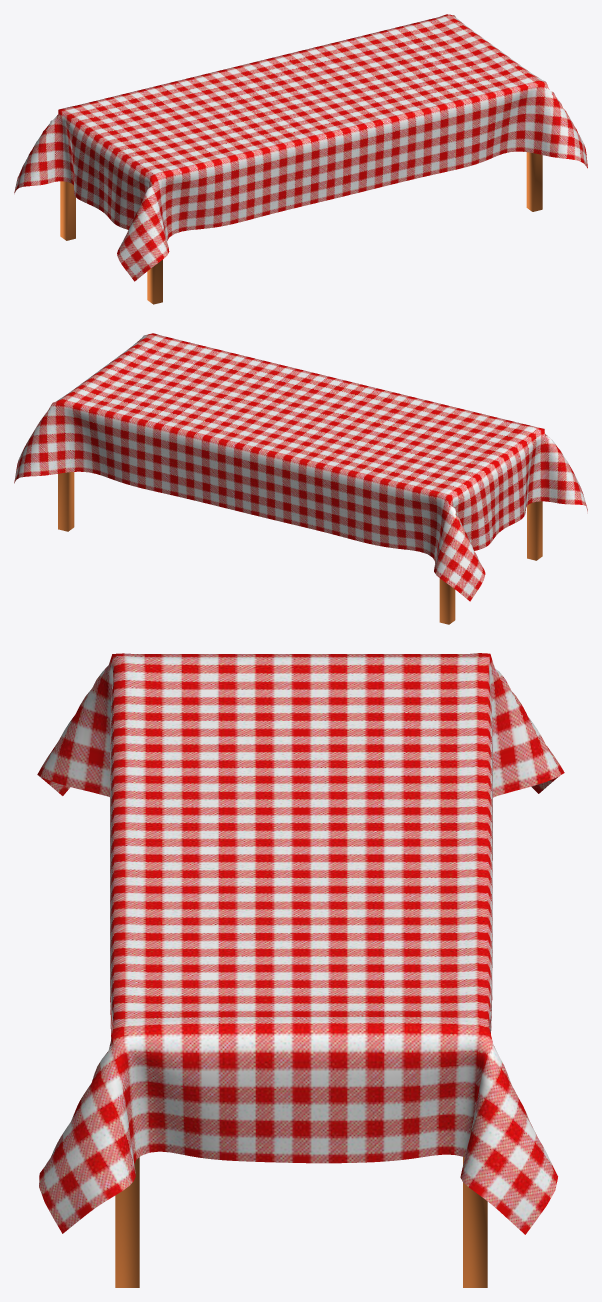
Rendered from workstation.glb.
3 renders of one model, top to bottom at view 1: azimuth 30°, elevation 25°; view 2: azimuth 150°, elevation 25°; view 3: azimuth 270°, elevation 25°, orthographic. The views are drawn at different scales.
Visible parts, largest first — view 1: Plane; view 2: Plane; view 3: Plane.
Part boxes in pixels (x1,y1,x2,y2): Plane: [14, 14, 587, 304]; Plane: [14, 333, 587, 624]; Plane: [37, 653, 564, 1287].
Bounding box in the file's own units: 40.47 × 10.73 × 19.84.
Materials: 2 (1 with a texture image).
